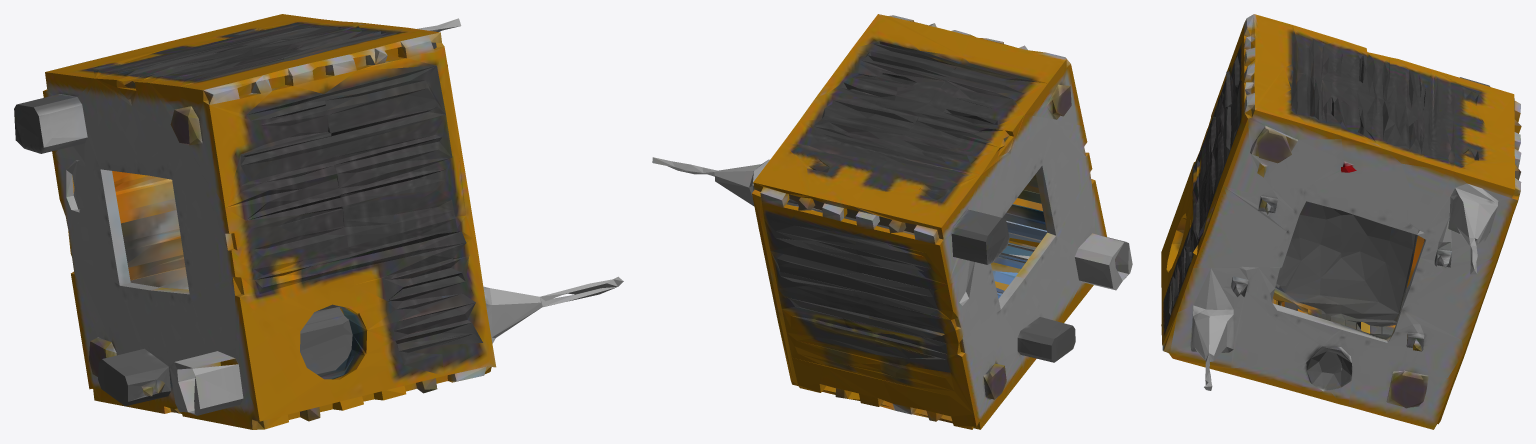
Rendered from rasat.glb.
The picture shows the model from 3 angles, left to right: view 1: azimuth 30°, elevation 25°; view 2: azimuth 150°, elevation 25°; view 3: azimuth 270°, elevation 25°; orthographic projection. The views are drawn at different scales.
Visible parts, largest first — view 1: tripo_node_f952a2ba-3d35-41fb-8c51-0441aba9f25f; view 2: tripo_node_f952a2ba-3d35-41fb-8c51-0441aba9f25f; view 3: tripo_node_f952a2ba-3d35-41fb-8c51-0441aba9f25f.
Part boxes in pixels (x1,y1,x2,y2): tripo_node_f952a2ba-3d35-41fb-8c51-0441aba9f25f: [14, 14, 623, 429]; tripo_node_f952a2ba-3d35-41fb-8c51-0441aba9f25f: [652, 14, 1132, 429]; tripo_node_f952a2ba-3d35-41fb-8c51-0441aba9f25f: [1161, 14, 1521, 429].
Size of the model in its own units: 0.7896 by 0.6795 by 0.691.
1 material, 1 textured.
